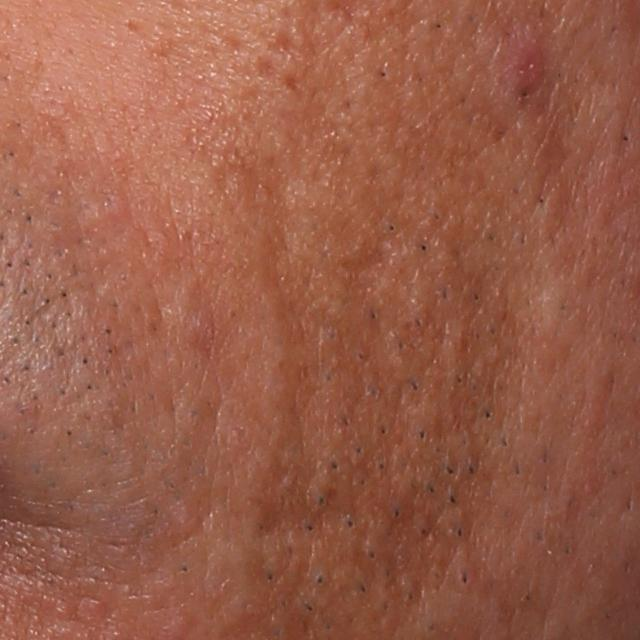atrophic_scar: (254, 53, 282, 84)
papule: (499, 32, 558, 111)
